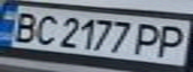1: (75, 16, 96, 51)
2: (54, 14, 81, 50)
7: (109, 18, 139, 55), (93, 16, 115, 52)
B: (3, 9, 42, 43)
C: (30, 11, 60, 46)
P: (151, 22, 193, 60), (130, 20, 169, 56)
